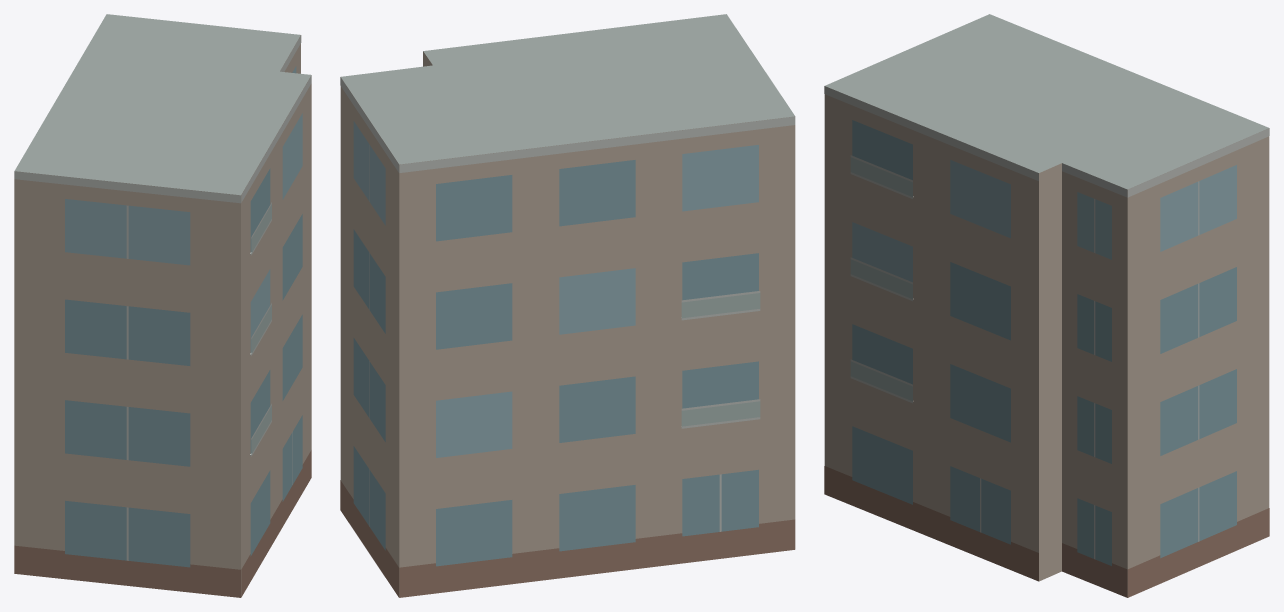
The model's file is survey-upis-32974430.glb.
The picture shows the model from 3 angles, left to right: view 1: azimuth 30°, elevation 25°; view 2: azimuth 150°, elevation 25°; view 3: azimuth 270°, elevation 25°; orthographic projection. The views are drawn at different scales.
Visible parts, largest first — view 1: survey-upis-32974430.tmp; view 2: survey-upis-32974430.tmp; view 3: survey-upis-32974430.tmp.
Boxes of the visible parts, x1=… form: survey-upis-32974430.tmp: x1=14, y1=14, x2=311, y2=597; survey-upis-32974430.tmp: x1=340, y1=14, x2=795, y2=597; survey-upis-32974430.tmp: x1=824, y1=14, x2=1269, y2=597.
Bounding box in the file's own units: 11.25 × 12.2 × 12.06.
